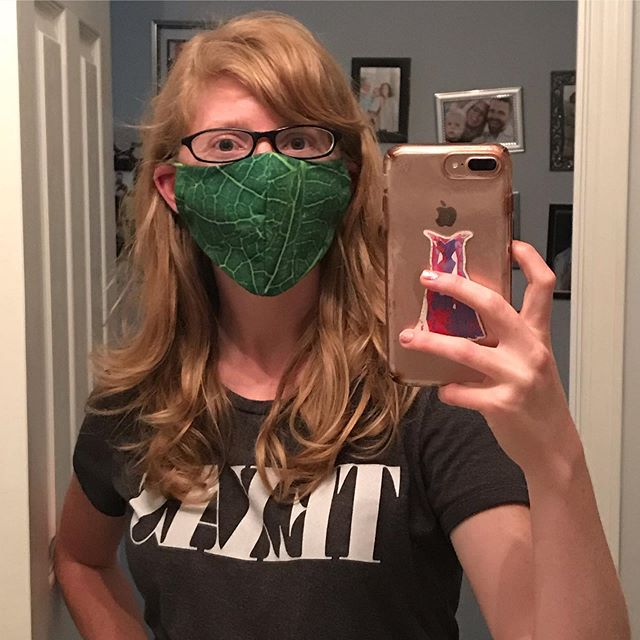homemade: (154, 154, 355, 296)
